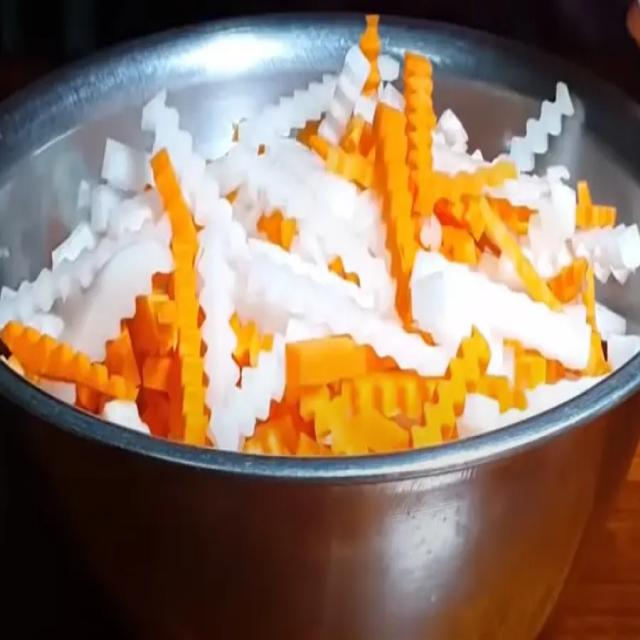do chua: (0, 16, 639, 455)
